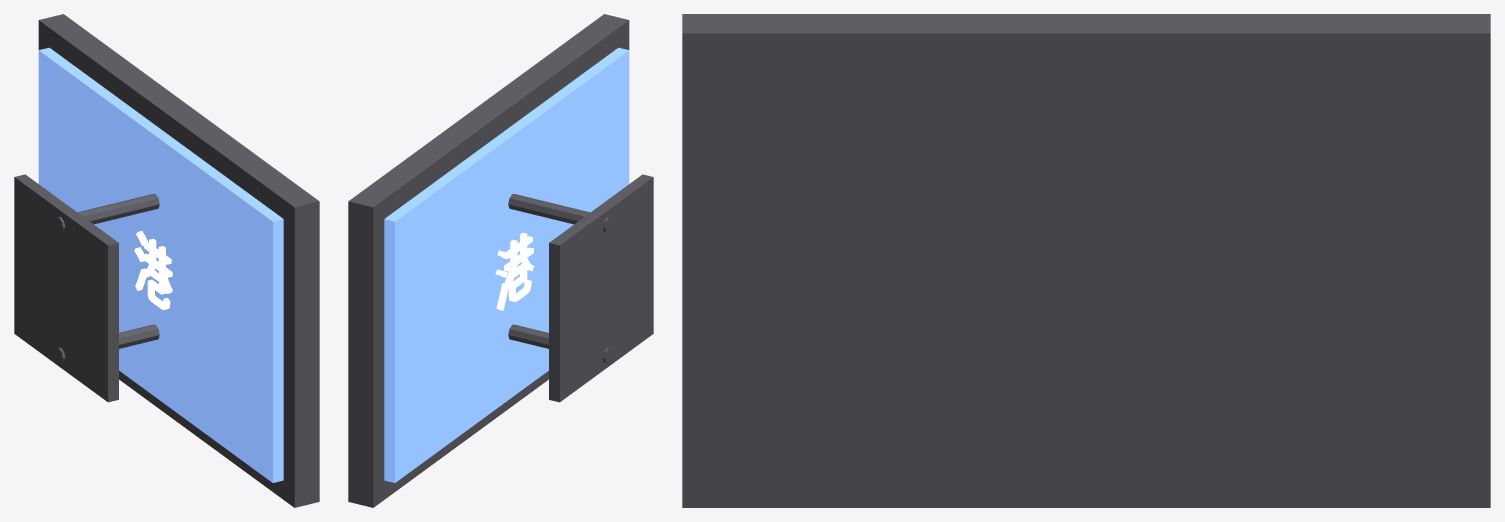
Rendered from bt-hw-sign-minato.glb.
The picture shows the model from 3 angles, left to right: view 1: azimuth 30°, elevation 25°; view 2: azimuth 150°, elevation 25°; view 3: azimuth 270°, elevation 25°; orthographic projection. The views are drawn at different scales.
Parts seen in each view (by area): view 1: bt-hw-sign-minato_board_minato, bt-hw-sign-minato_frame, bt-hw-sign-minato_plate, bt-hw-sign-minato_txL, bt-hw-sign-minato_arm1.2000000000000002, bt-hw-sign-minato_arm0.4; view 2: bt-hw-sign-minato_board_minato, bt-hw-sign-minato_frame, bt-hw-sign-minato_plate, bt-hw-sign-minato_txL, bt-hw-sign-minato_arm1.2000000000000002, bt-hw-sign-minato_arm0.4; view 3: bt-hw-sign-minato_frame.
Part boxes in pixels (bbox=[...]): bt-hw-sign-minato_board_minato: bbox=[38, 47, 283, 482]; bt-hw-sign-minato_frame: bbox=[38, 14, 319, 507]; bt-hw-sign-minato_plate: bbox=[14, 174, 118, 402]; bt-hw-sign-minato_txL: bbox=[134, 231, 172, 310]; bt-hw-sign-minato_arm1.2000000000000002: bbox=[55, 194, 159, 232]; bt-hw-sign-minato_arm0.4: bbox=[55, 324, 159, 362]; bt-hw-sign-minato_board_minato: bbox=[384, 47, 629, 482]; bt-hw-sign-minato_frame: bbox=[348, 14, 629, 507]; bt-hw-sign-minato_plate: bbox=[549, 174, 653, 402]; bt-hw-sign-minato_txL: bbox=[495, 232, 534, 310]; bt-hw-sign-minato_arm1.2000000000000002: bbox=[508, 194, 612, 232]; bt-hw-sign-minato_arm0.4: bbox=[508, 324, 612, 362]; bt-hw-sign-minato_frame: bbox=[682, 14, 1490, 507].
Bounding box in the file's own units: 0.85 × 1.84 × 2.84.
